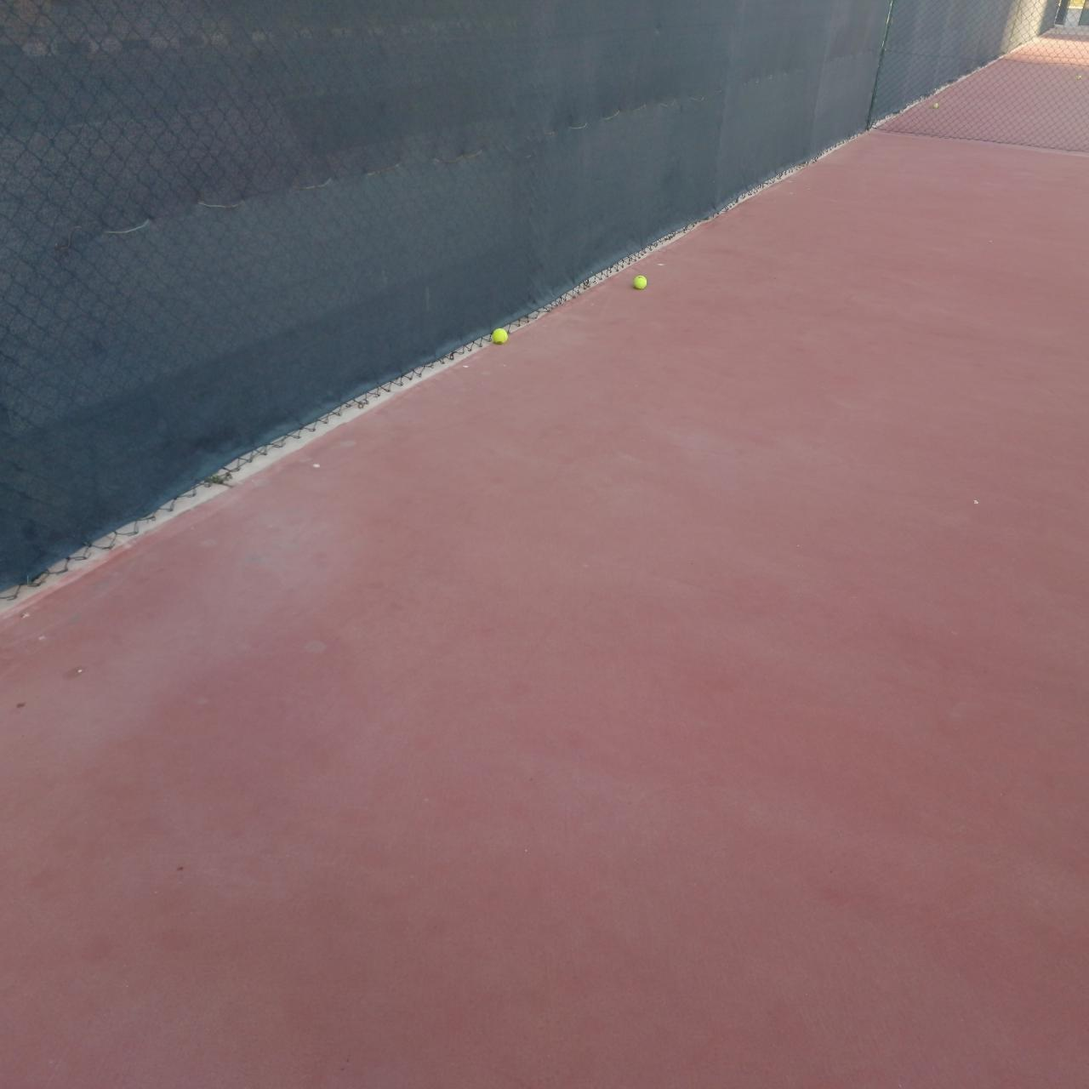tennis-ball: (492, 325, 510, 345), (633, 271, 650, 290), (932, 103, 939, 109)
